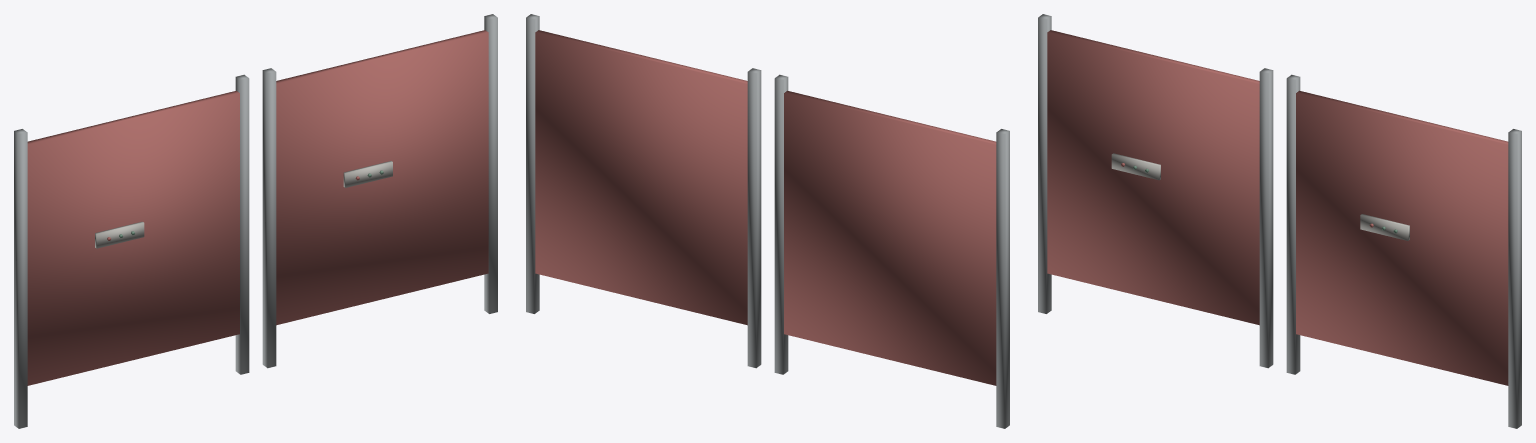
The model's file is welding_screen__cluster.glb.
3 views of the same model, side by side, from view 1: azimuth 30°, elevation 25°; view 2: azimuth 150°, elevation 25°; view 3: azimuth 330°, elevation 25° (orthographic).
Visible parts, largest first — view 1: world; view 2: world; view 3: world.
Part boxes in pixels (left/top/right/bottom): world: left=14, top=14, right=497, bottom=428; world: left=526, top=14, right=1009, bottom=428; world: left=1038, top=14, right=1521, bottom=428.
Bounding box in the file's own units: 2.81 × 1.65 × 0.081.
